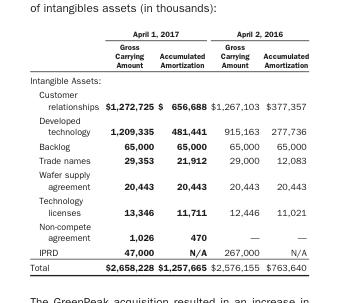table: (29, 28, 308, 272)
table column: (29, 28, 101, 272), (101, 28, 155, 272), (207, 28, 260, 272), (155, 28, 207, 272), (260, 28, 308, 272)
table column header: (29, 28, 308, 71)
table projected row header: (29, 71, 308, 86)
table row: (29, 40, 308, 71), (29, 86, 308, 112), (29, 112, 308, 138), (29, 166, 308, 192), (29, 192, 308, 218), (29, 218, 308, 244), (29, 71, 308, 86), (29, 244, 308, 259), (29, 138, 308, 152), (29, 152, 308, 166), (29, 259, 308, 272), (29, 28, 308, 40)
table spanning cell: (101, 28, 207, 40), (207, 28, 308, 40)
